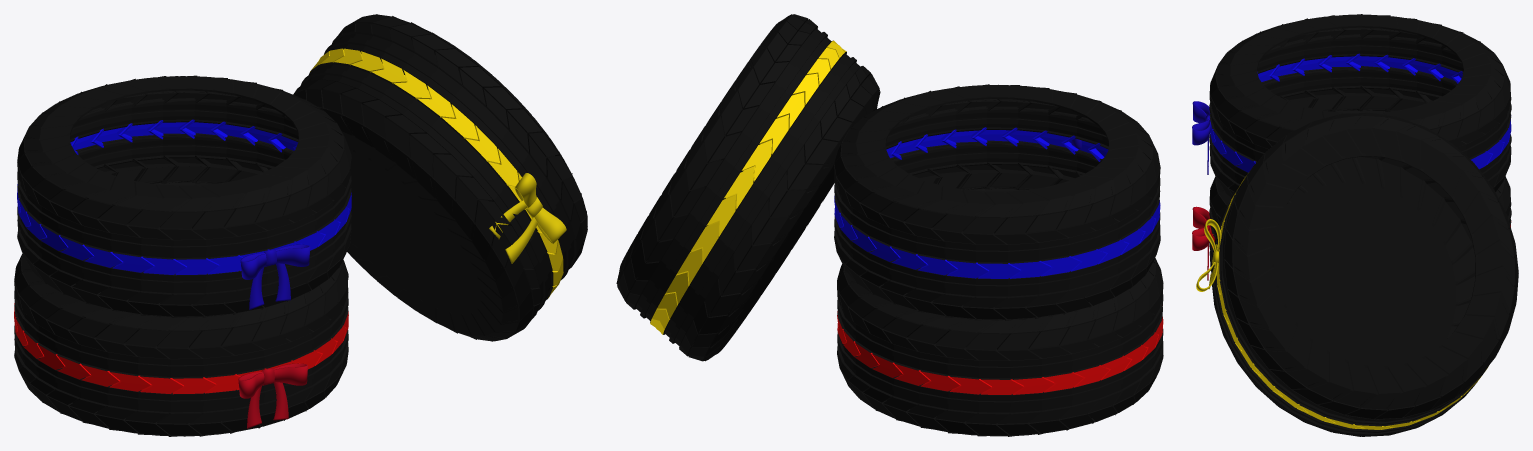
Rendered from CarBoxStacked.fbx.
3 renders of one model, left to right at view 1: azimuth 30°, elevation 25°; view 2: azimuth 150°, elevation 25°; view 3: azimuth 270°, elevation 25°, orthographic. The views are drawn at different scales.
Parts seen in each view (by area): view 1: Tire.006, Tire.007, Tire.005, Bow.003, Bow.004, Bow.005; view 2: Tire.006, Tire.007, Tire.005; view 3: Tire.007, Tire.006, Tire.005, Bow.004, Bow.003, Bow.005.
Boxes of the visible parts, left/top/right/bottom form: Tire.006: left=17, top=75, right=351, bottom=317; Tire.007: left=293, top=14, right=587, bottom=341; Tire.005: left=14, top=253, right=348, bottom=436; Bow.003: left=238, top=363, right=307, bottom=428; Bow.004: left=240, top=244, right=310, bottom=309; Bow.005: left=489, top=173, right=566, bottom=263; Tire.006: left=834, top=84, right=1160, bottom=320; Tire.007: left=616, top=14, right=880, bottom=361; Tire.005: left=837, top=258, right=1163, bottom=436; Tire.007: left=1211, top=112, right=1518, bottom=436; Tire.006: left=1209, top=14, right=1511, bottom=197; Tire.005: left=1209, top=176, right=1511, bottom=271; Bow.004: left=1192, top=101, right=1210, bottom=174; Bow.003: left=1192, top=206, right=1210, bottom=280; Bow.005: left=1196, top=219, right=1221, bottom=291.
Size of the model in its own units: 353 by 216 by 216.
